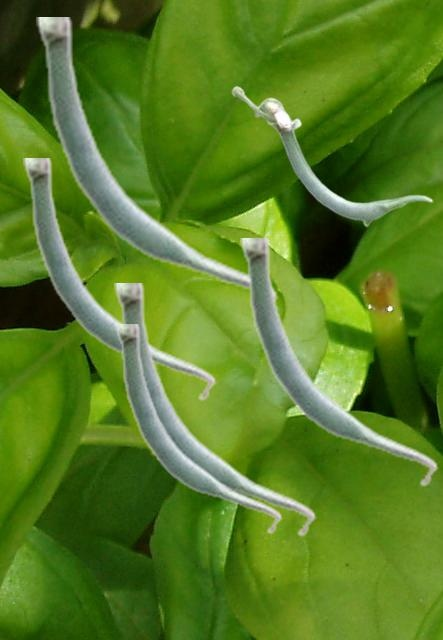french_bean: (36, 17, 277, 320), (114, 283, 315, 537), (240, 238, 437, 487), (23, 158, 215, 401), (115, 324, 281, 534), (231, 85, 432, 226)
